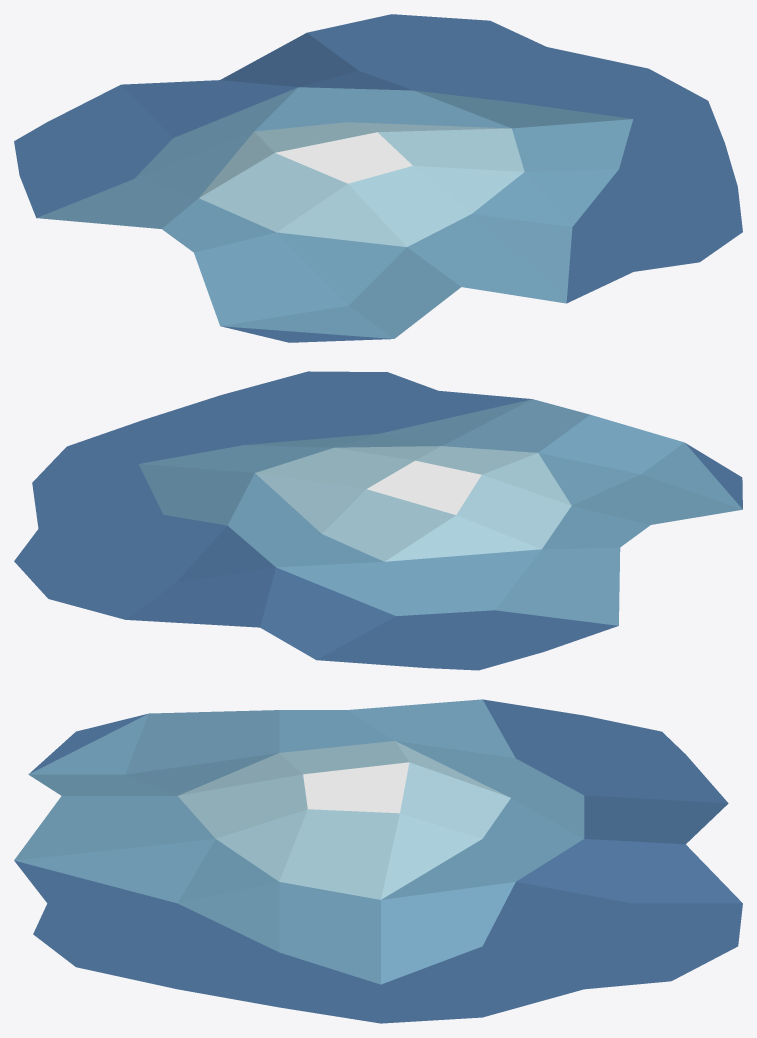
The model's file is terrainSeaFloor2.fbx.
3 renders of one model, top to bottom at view 1: azimuth 30°, elevation 25°; view 2: azimuth 150°, elevation 25°; view 3: azimuth 270°, elevation 25°, orthographic. The views are drawn at different scales.
Parts seen in each view (by area): view 1: seafloor; view 2: seafloor; view 3: seafloor.
Boxes of the visible parts, bbox=[...] form: seafloor: bbox=[14, 14, 742, 342]; seafloor: bbox=[14, 371, 742, 670]; seafloor: bbox=[14, 699, 742, 1023].
Bounding box in the file's own units: 1006 × 62.5 × 956.
Materials: 1 (1 with a texture image).
